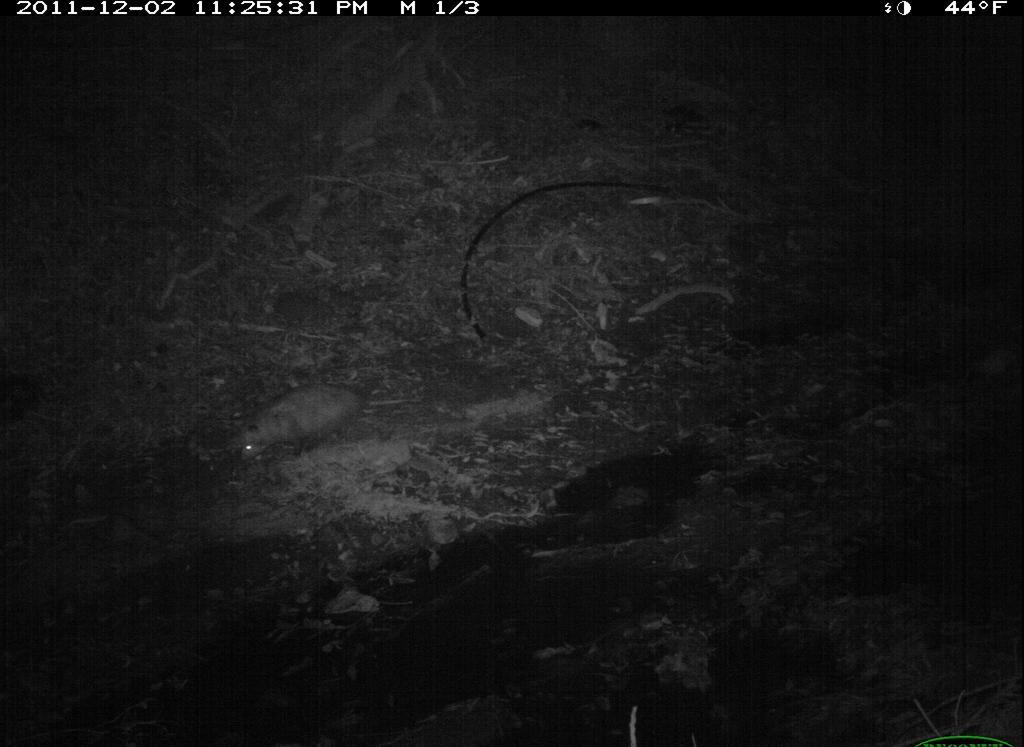opossum: (233, 363, 449, 470)
